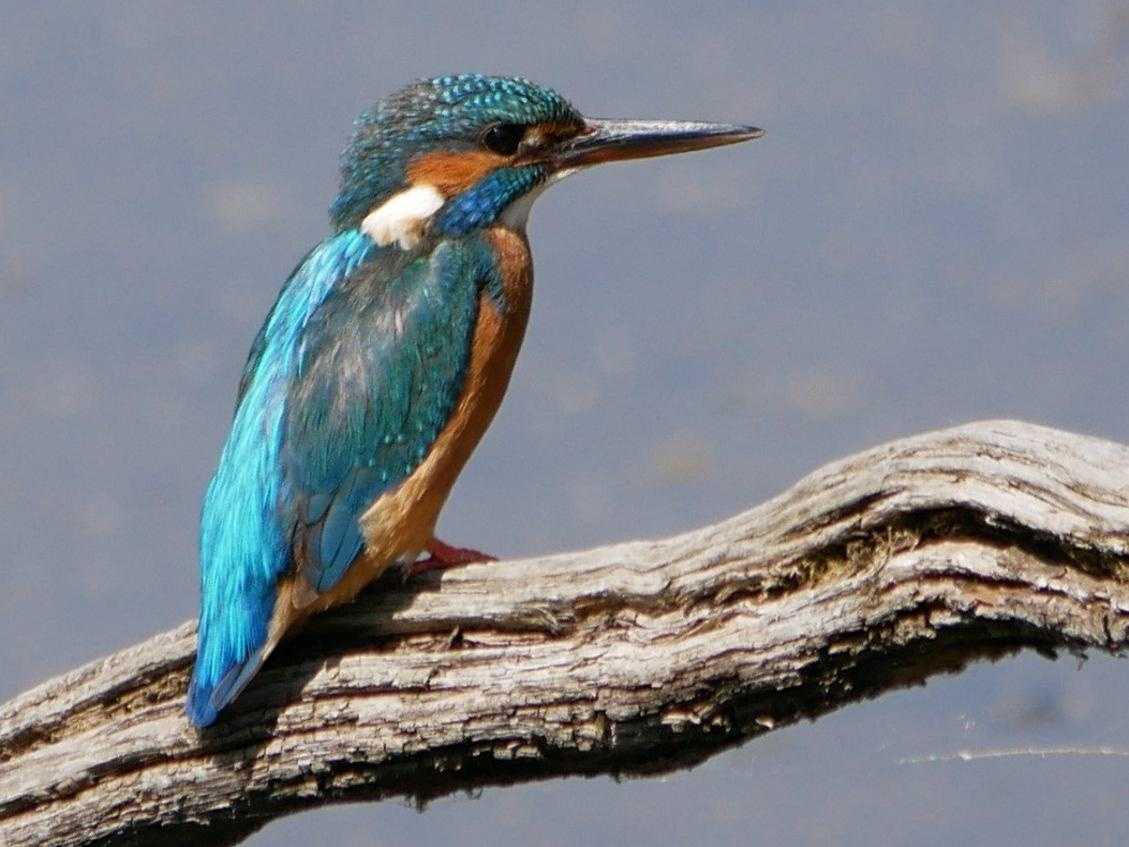kingfisher: (61, 58, 773, 732)
